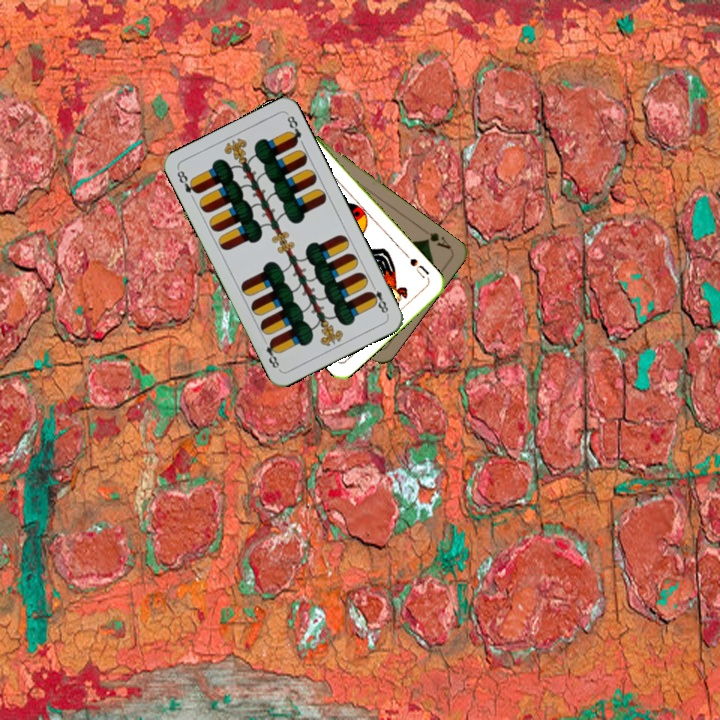E8: (365, 279, 391, 317), (173, 166, 201, 196)
GA: (421, 228, 454, 252)
SU: (406, 254, 432, 281)
